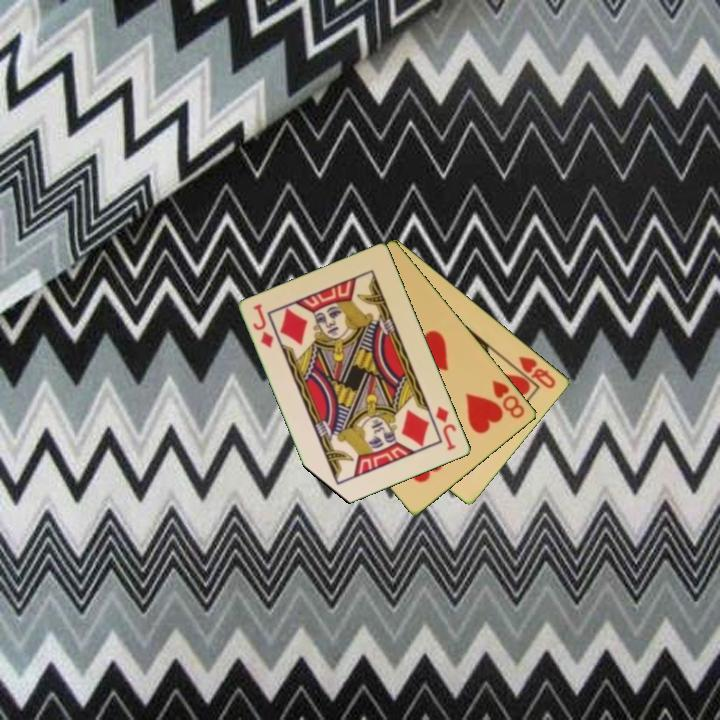8h: (489, 376, 528, 422)
Jd: (432, 403, 459, 454), (250, 301, 277, 351)
Qh: (516, 353, 559, 392)
